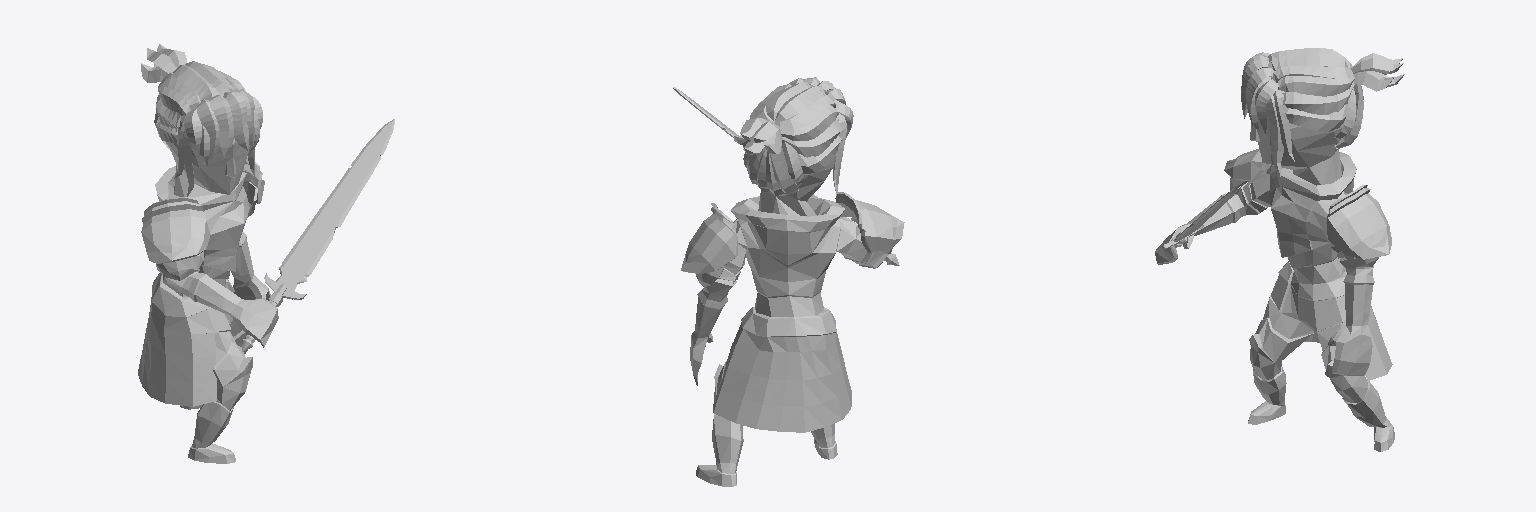
The picture shows the model from 3 angles: view 1: azimuth 30°, elevation 25°; view 2: azimuth 150°, elevation 25°; view 3: azimuth 270°, elevation 25°; orthographic projection.
Visible parts, largest first — view 1: Warrior.002__ncl1_29.005, Face__ncl1_29.002, Warrior_Sword_Cylinder.001, Shoulder.R__ncl1_29.001, Shoulder.L__ncl1_29.000; view 2: Warrior.002__ncl1_29.005, Face__ncl1_29.002, Shoulder.L__ncl1_29.000, Shoulder.R__ncl1_29.001, Warrior_Sword_Cylinder.001; view 3: Warrior.002__ncl1_29.005, Face__ncl1_29.002, Shoulder.L__ncl1_29.000, Shoulder.R__ncl1_29.001, Warrior_Sword_Cylinder.001.
Part boxes in pixels (x1,y1,x2,y2): Warrior.002__ncl1_29.005: (138, 116, 278, 463); Face__ncl1_29.002: (141, 44, 262, 196); Warrior_Sword_Cylinder.001: (242, 119, 394, 351); Shoulder.R__ncl1_29.001: (141, 197, 210, 280); Shoulder.L__ncl1_29.000: (243, 156, 264, 217); Warrior.002__ncl1_29.005: (690, 120, 888, 486); Face__ncl1_29.002: (734, 77, 853, 196); Shoulder.L__ncl1_29.000: (681, 203, 737, 286); Shoulder.R__ncl1_29.001: (835, 192, 904, 253); Warrior_Sword_Cylinder.001: (673, 87, 899, 265); Warrior.002__ncl1_29.005: (1155, 113, 1394, 451); Face__ncl1_29.002: (1241, 48, 1404, 176); Shoulder.L__ncl1_29.000: (1326, 185, 1391, 266); Shoulder.R__ncl1_29.001: (1224, 149, 1270, 190); Warrior_Sword_Cylinder.001: (1163, 188, 1237, 248).
Size of the model in its own units: 1.87 by 2.82 by 1.72.